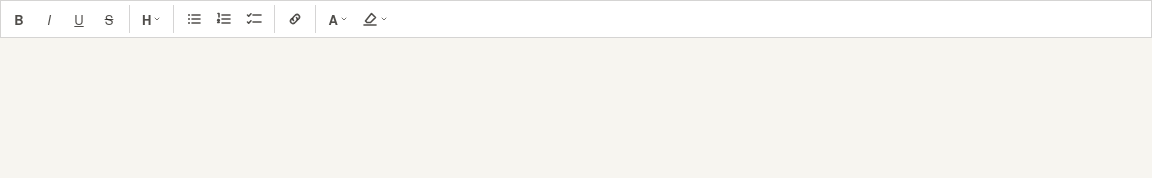
Test: <KbToolbar> › opens the heading popover on click and applies the chosen level
Expected: the menu item "Heading 2" is not shown
Click the button named "Heading style" at (152, 19), box [136,5,167,33]
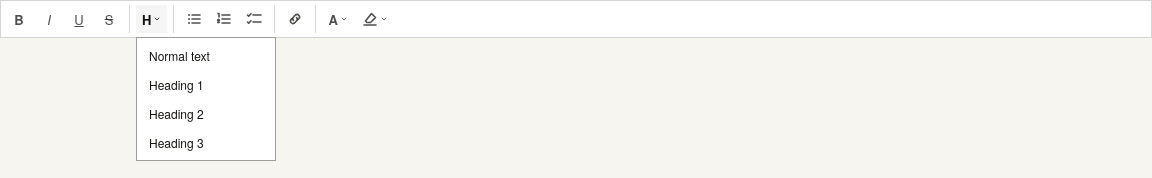
Expected: the button named "Heading style" is expanded, [136,5,167,33]
Press the mouse on the menu item "Heading 2" at (206, 114), box [141,100,271,127]
Click the menu item "Heading 2" at (206, 114), box [141,100,271,127]
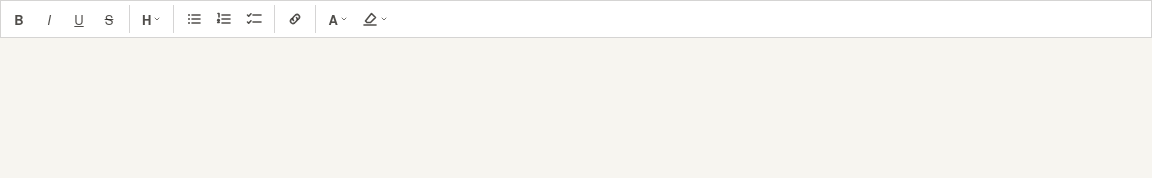
Expected: the menu item "Heading 2" is gone
